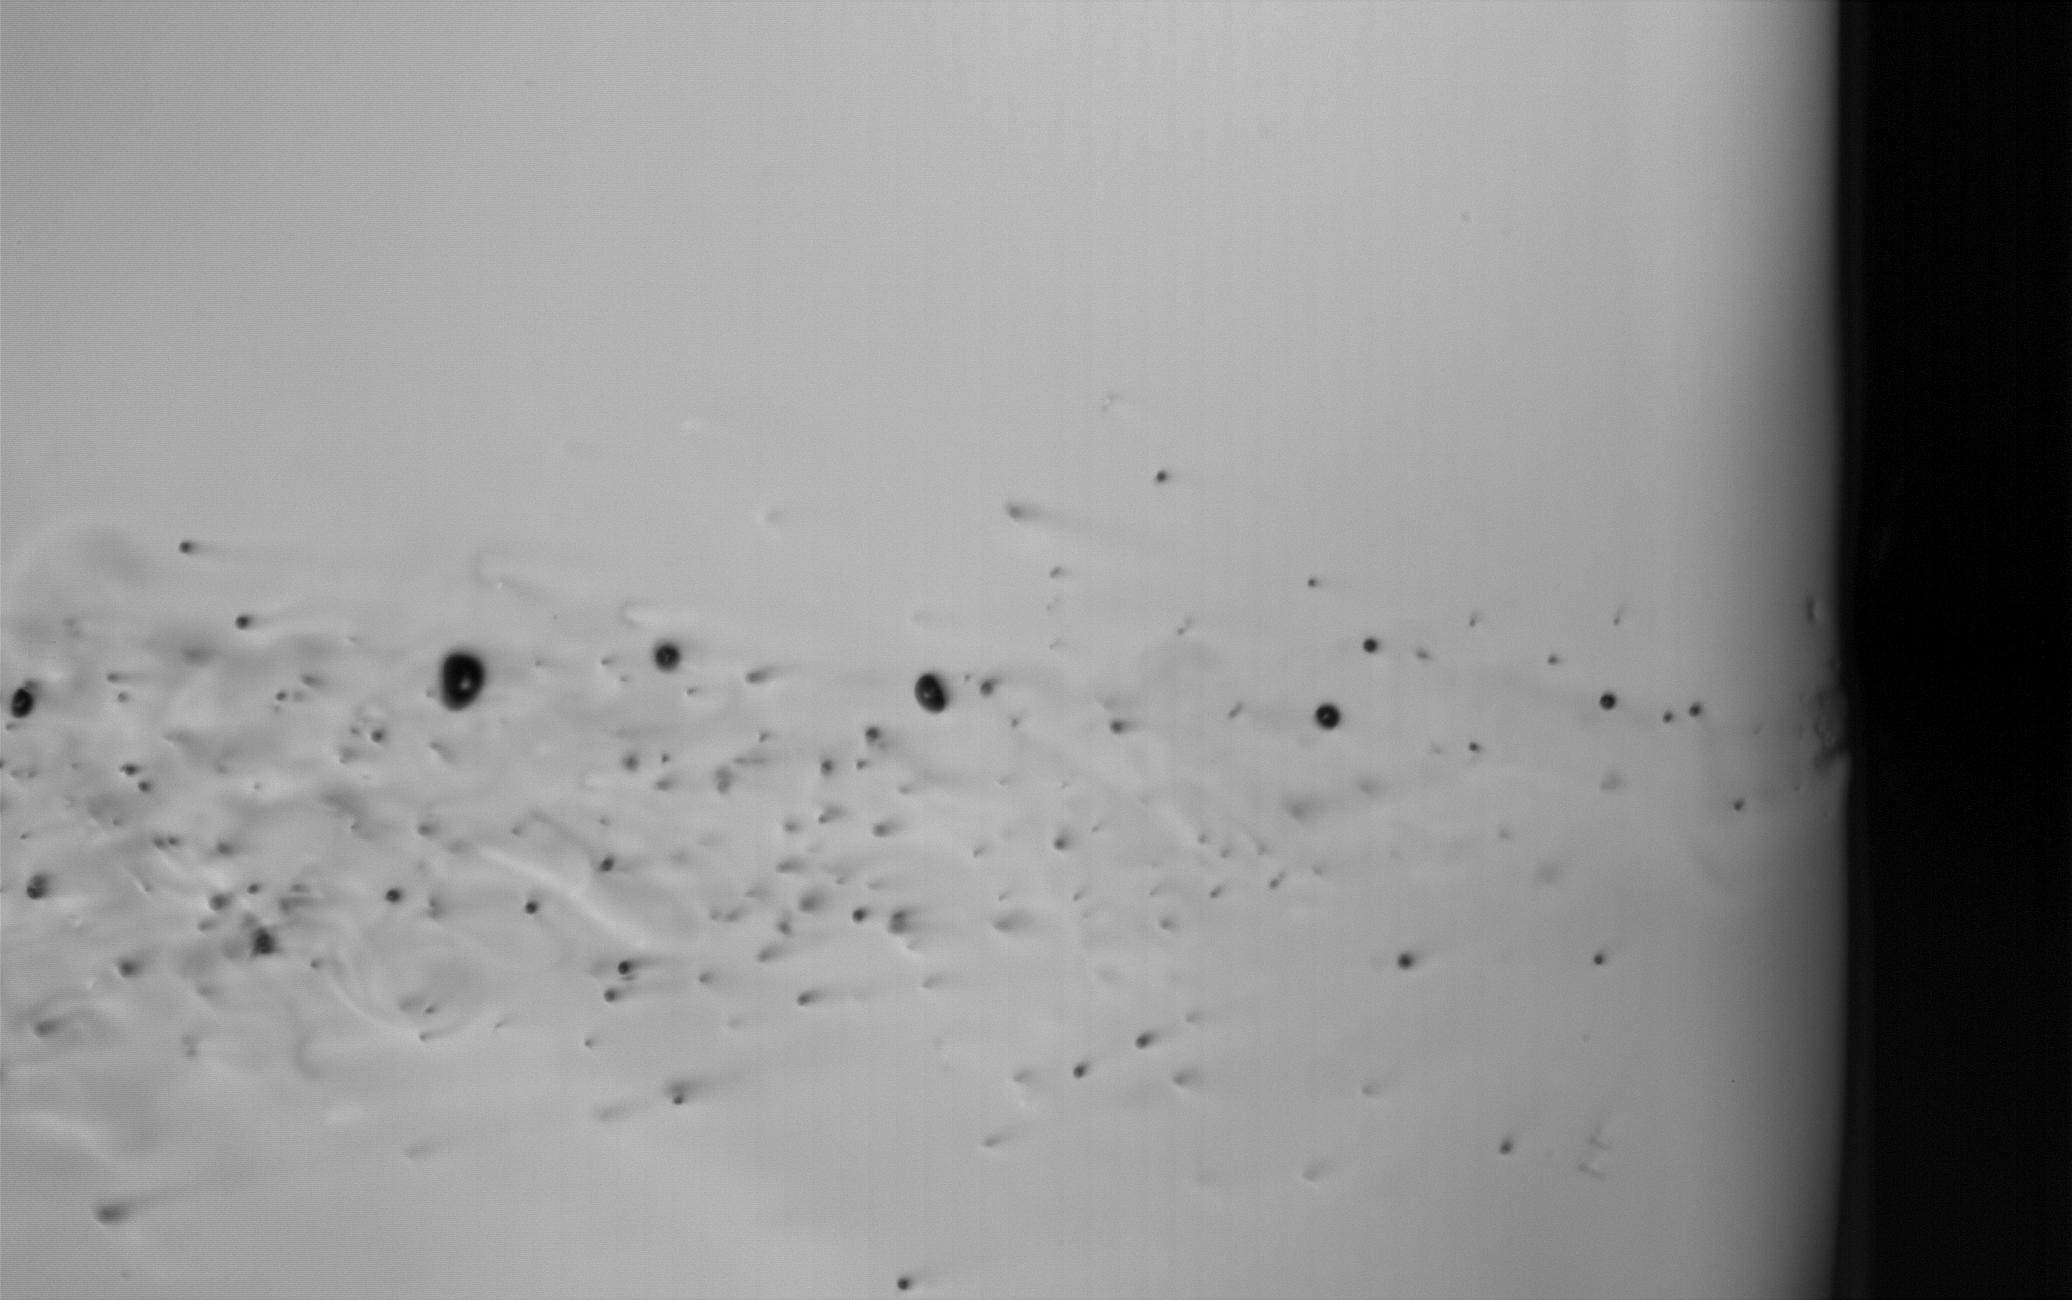Blurry: (755, 882, 817, 979), (178, 884, 238, 948), (325, 779, 371, 842), (87, 1194, 150, 1233), (266, 674, 320, 713), (996, 496, 1048, 532), (199, 827, 244, 869), (698, 762, 741, 803), (1163, 1057, 1205, 1096), (615, 740, 650, 786), (882, 900, 919, 942), (142, 827, 187, 861), (732, 663, 776, 696), (1046, 827, 1082, 866), (987, 908, 1030, 939), (810, 753, 843, 786), (816, 800, 849, 831), (1204, 872, 1231, 908), (1264, 866, 1292, 894), (871, 821, 904, 845), (579, 1032, 600, 1053), (1005, 713, 1026, 734), (781, 818, 802, 839), (243, 879, 263, 900), (1656, 705, 1675, 726)
ClassicalEvaporation: (907, 666, 957, 719), (647, 635, 686, 674), (22, 869, 58, 911), (240, 932, 281, 968), (6, 678, 40, 720), (1310, 698, 1343, 734), (883, 1263, 918, 1296), (1496, 1134, 1517, 1155), (597, 852, 618, 873), (365, 726, 386, 747), (1151, 464, 1172, 485), (793, 988, 814, 1009), (385, 887, 406, 908), (668, 1086, 689, 1107), (1103, 717, 1124, 738), (862, 722, 883, 743), (597, 985, 618, 1006), (1466, 738, 1487, 759), (114, 759, 135, 780), (522, 899, 542, 920), (175, 538, 195, 559), (1596, 690, 1615, 711), (849, 908, 868, 929), (234, 611, 253, 632), (1070, 1057, 1090, 1078), (112, 959, 132, 979), (1302, 574, 1322, 595), (614, 957, 633, 978), (1362, 634, 1382, 654), (979, 677, 999, 698), (133, 777, 153, 798), (1686, 699, 1705, 720), (1394, 953, 1413, 974), (1133, 1030, 1153, 1051), (1587, 945, 1606, 966), (1728, 797, 1747, 818)
TransitionalMixing: (445, 650, 487, 708)
